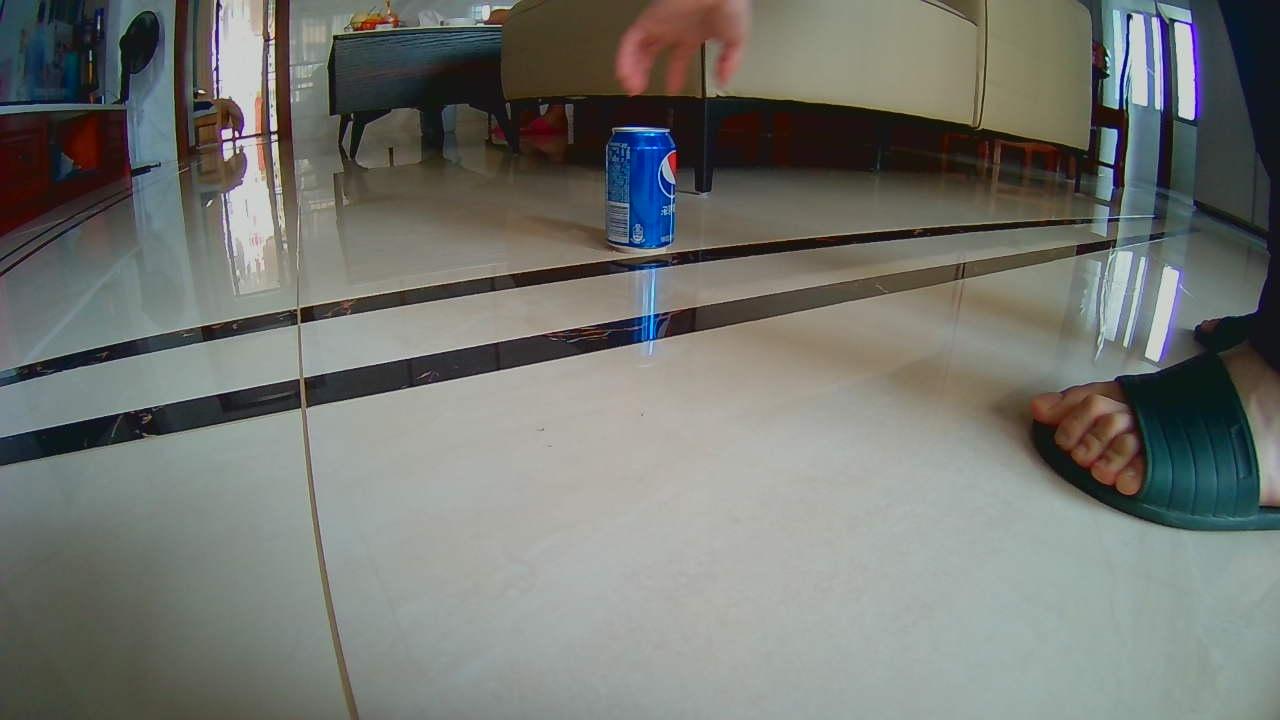pessi: (608, 125, 674, 248)
